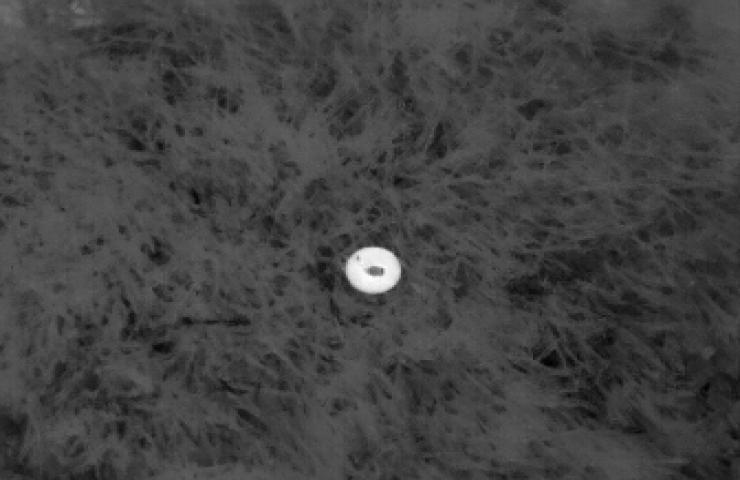landmines: (339, 240, 409, 299)
